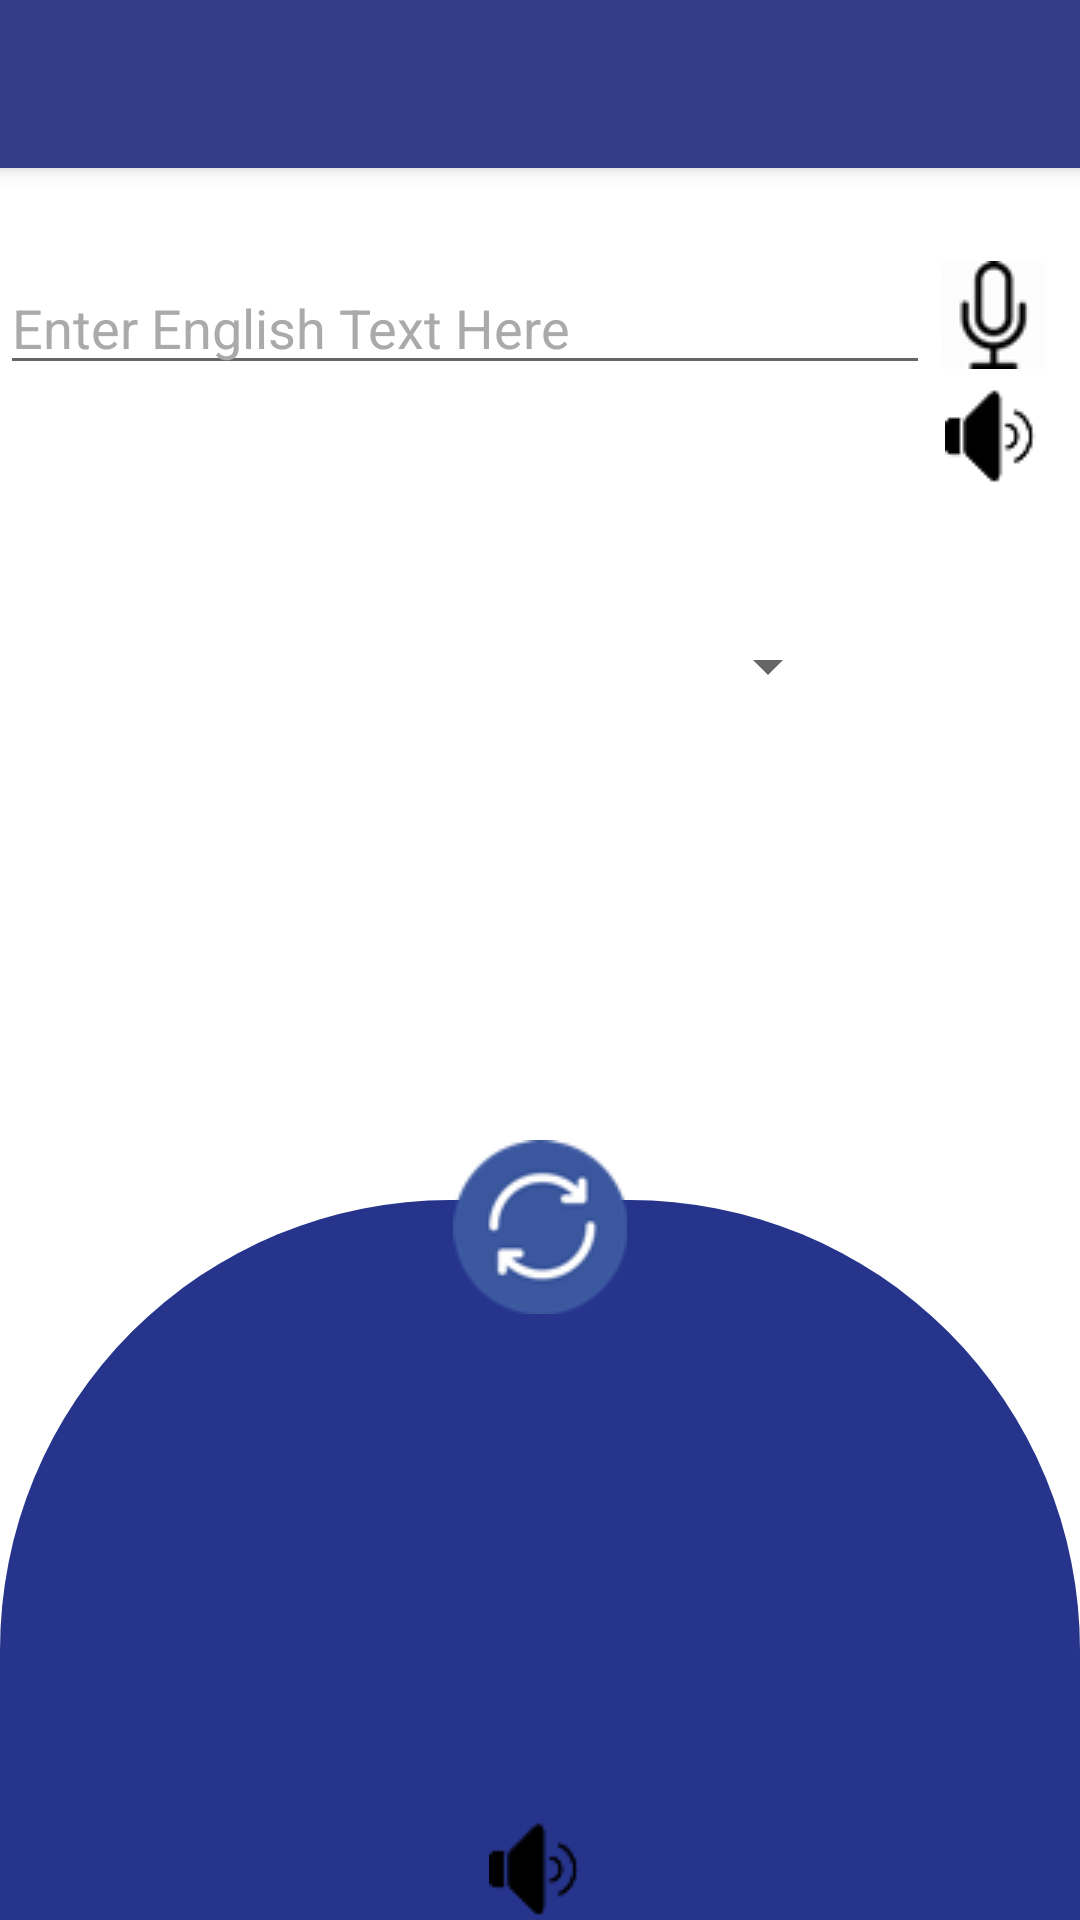

Icons on this 1080px×1920px Android screen, each with its box as (x1, y1, x2, y2):
audio: (945, 390, 1034, 482), (489, 1823, 577, 1915)
speecht: (959, 261, 1027, 369)
